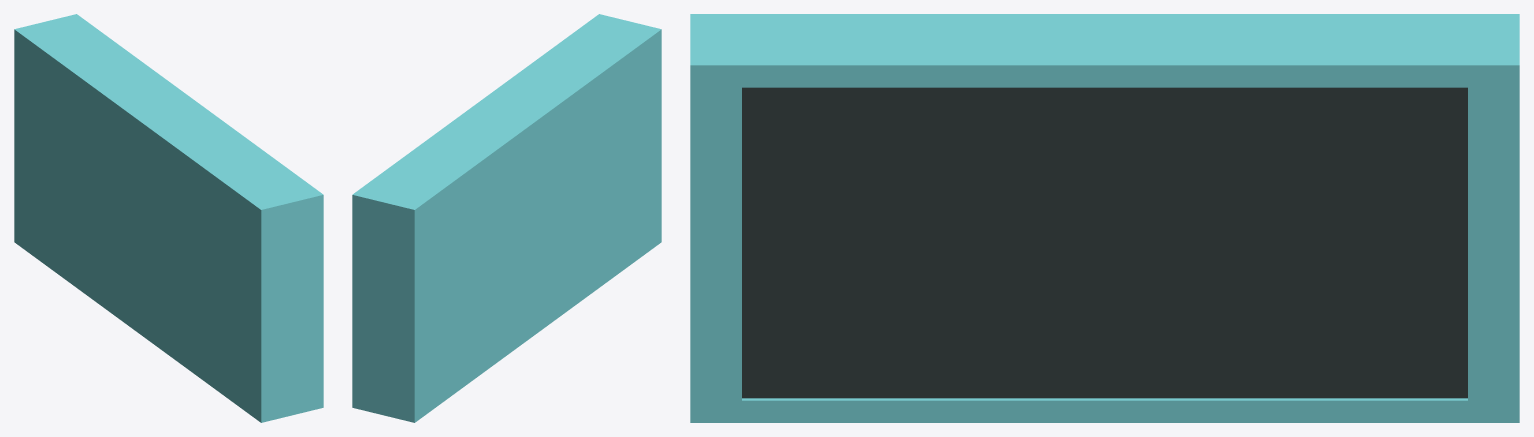
File: BigTelly.fbx
3 renders of one model, left to right at view 1: azimuth 30°, elevation 25°; view 2: azimuth 150°, elevation 25°; view 3: azimuth 270°, elevation 25°, orthographic. The views are drawn at different scales.
Visible parts, largest first — view 1: Generator_Computer; view 2: Generator_Computer; view 3: Generator_Computer.
Boxes of the visible parts, x1,y1,x2,y2 form: Generator_Computer: [14, 14, 323, 422]; Generator_Computer: [352, 14, 661, 422]; Generator_Computer: [690, 14, 1519, 422].
Size of the model in its own units: 2.15 by 7 by 14.71.
